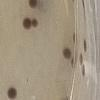brown: (62, 45, 72, 63), (24, 0, 41, 10), (20, 16, 32, 30), (7, 85, 17, 100), (81, 38, 89, 53), (71, 31, 79, 45), (79, 0, 86, 15), (32, 17, 39, 29), (80, 62, 86, 76), (78, 52, 84, 65), (71, 57, 75, 68), (71, 0, 76, 6)
